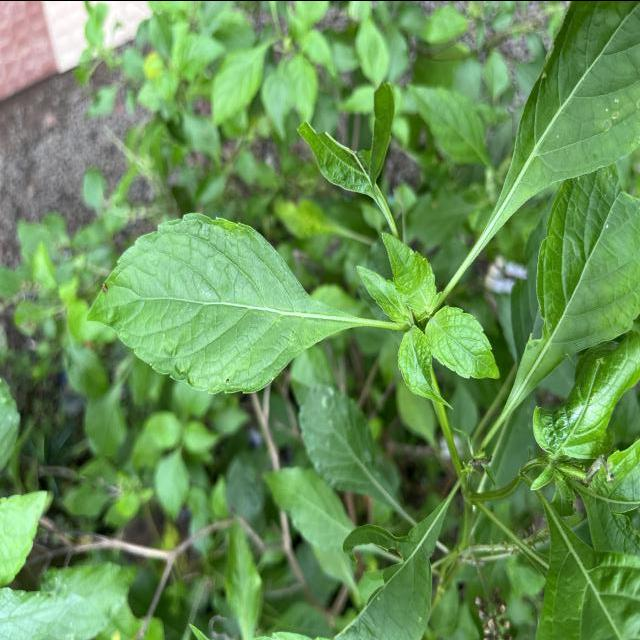Ocimum gratissimum: (83, 208, 342, 398)
